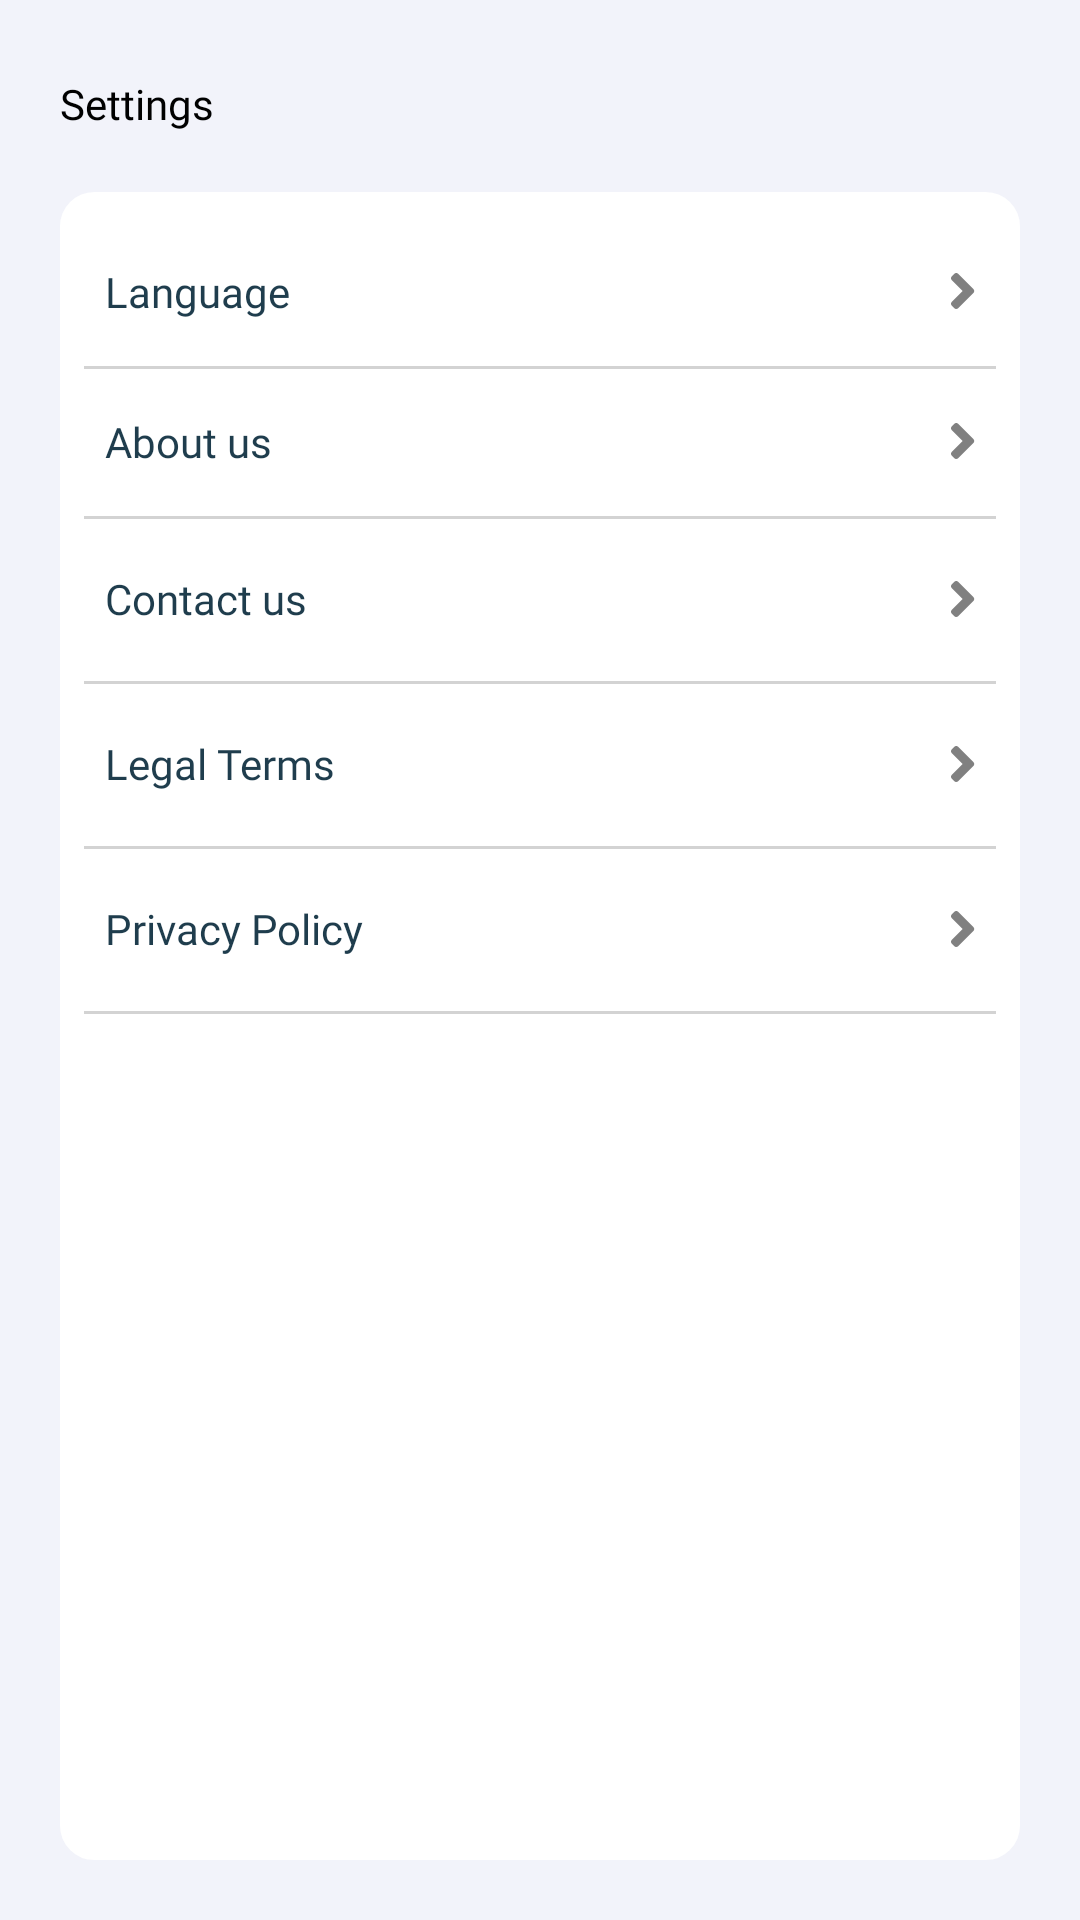

Where icons sit on this 1080w x 1920h app screen, as (x1, y1, x2, y2):
arrow right: (951, 273, 974, 309), (951, 423, 974, 459), (951, 581, 974, 617), (951, 746, 974, 782), (951, 911, 974, 947)
